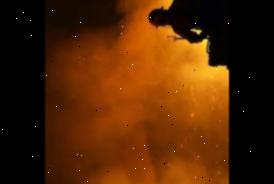fire: (158, 44, 206, 107)
